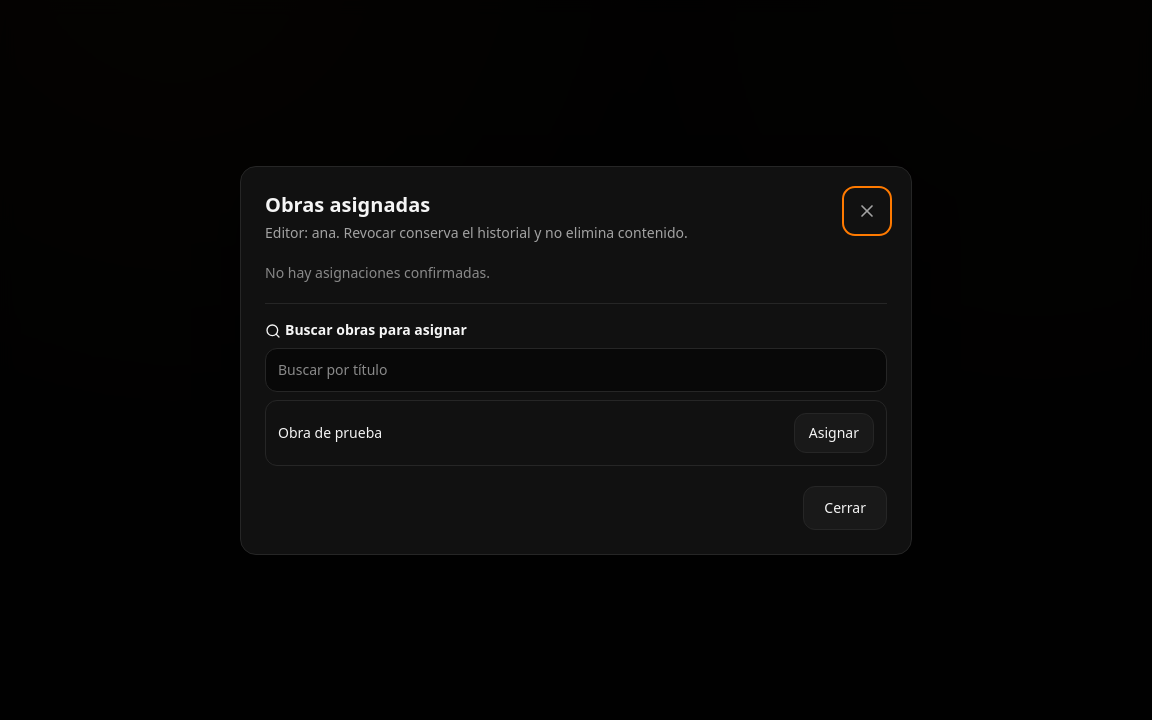
AssignmentsPanel › requires confirmation and checks for a current duplicate before assigning
The image size is (1152, 720).
Step 1. Click the button "Asignar" → {"x": 834, "y": 432}, box [794,412,874,452]
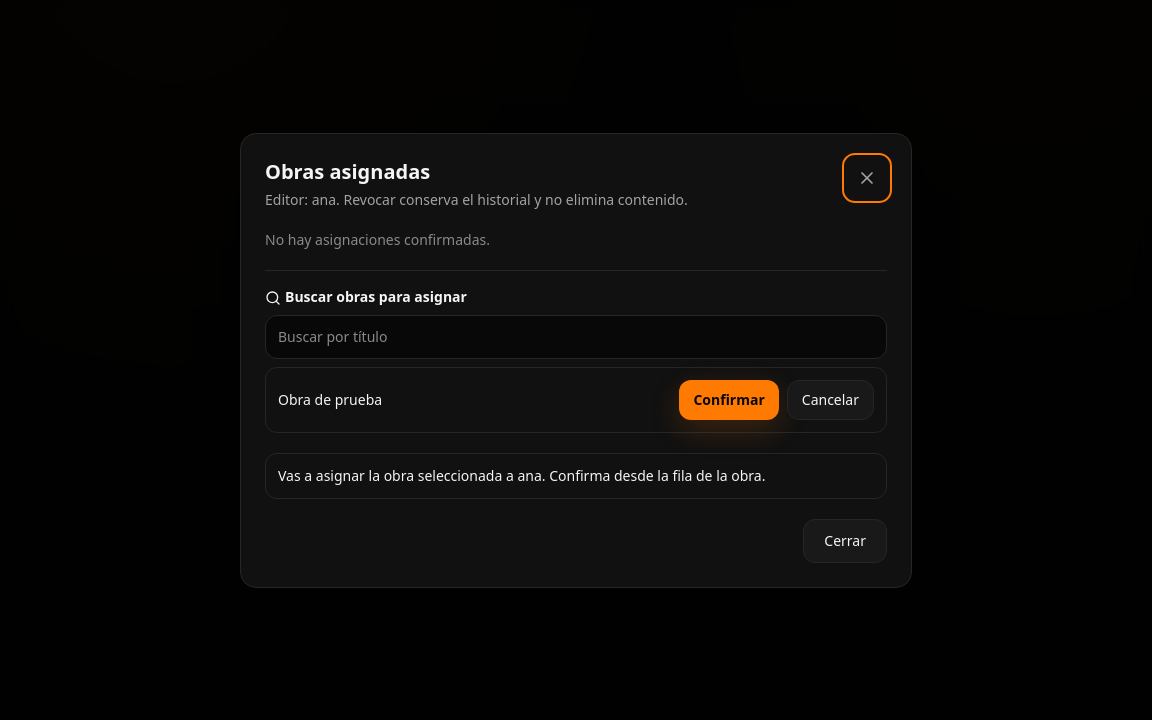
Expected: the text "Vas a asignar la obra seleccionada a ana" is shown, [265,452,887,498]
Step 2. Click the button "Confirmar" → {"x": 729, "y": 400}, box [679,380,779,420]
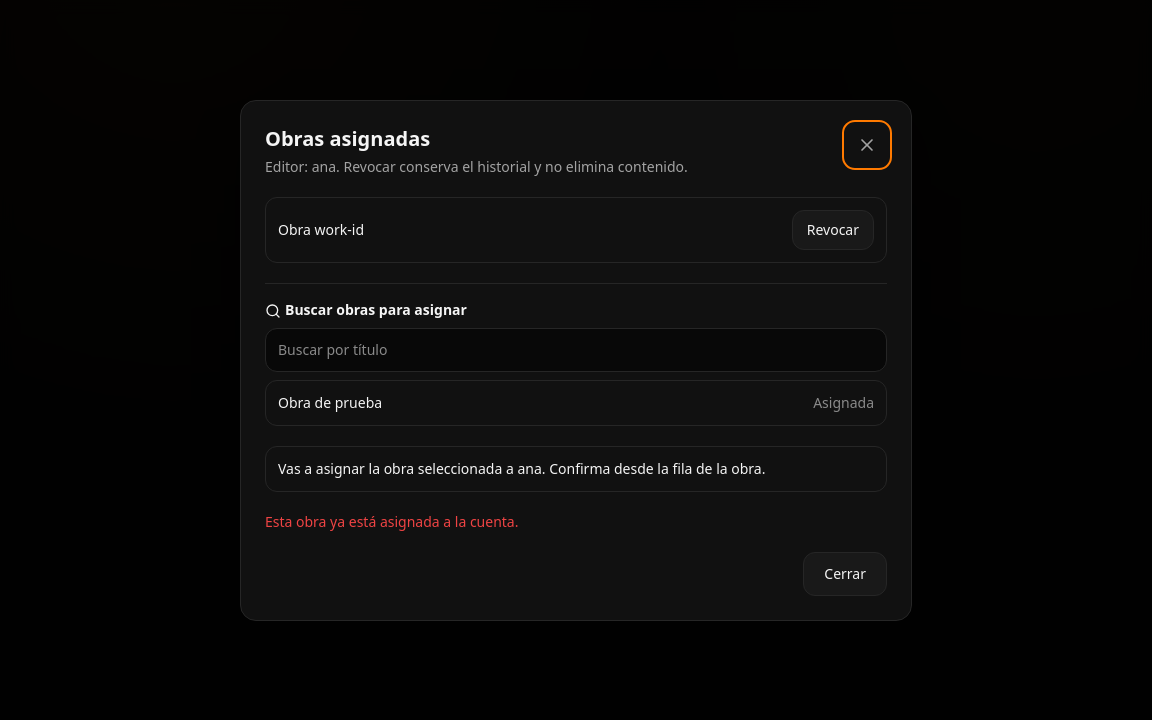
Expected: the message shows "Esta obra ya está asignada", [265,512,518,530]
